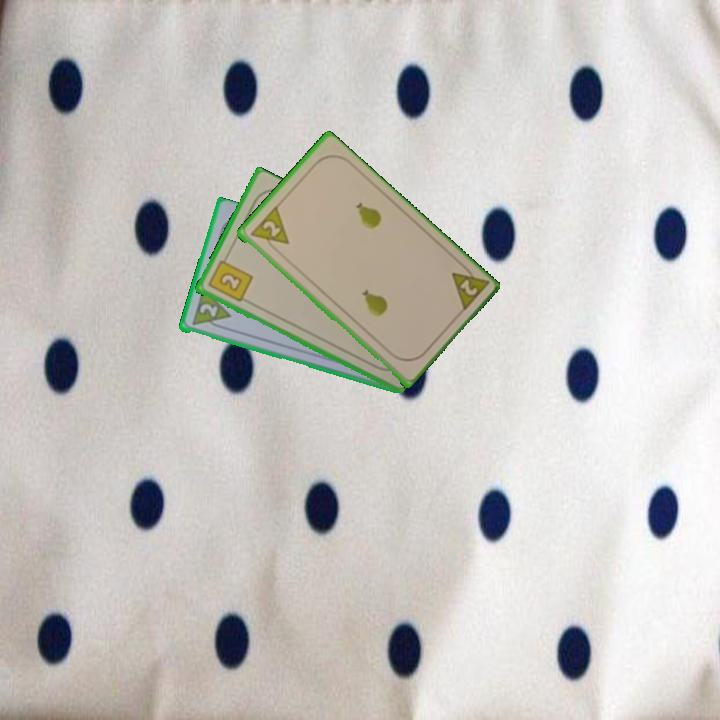2b: (204, 252, 255, 305)
2p: (447, 259, 491, 315), (259, 217, 283, 240), (195, 300, 221, 320)
